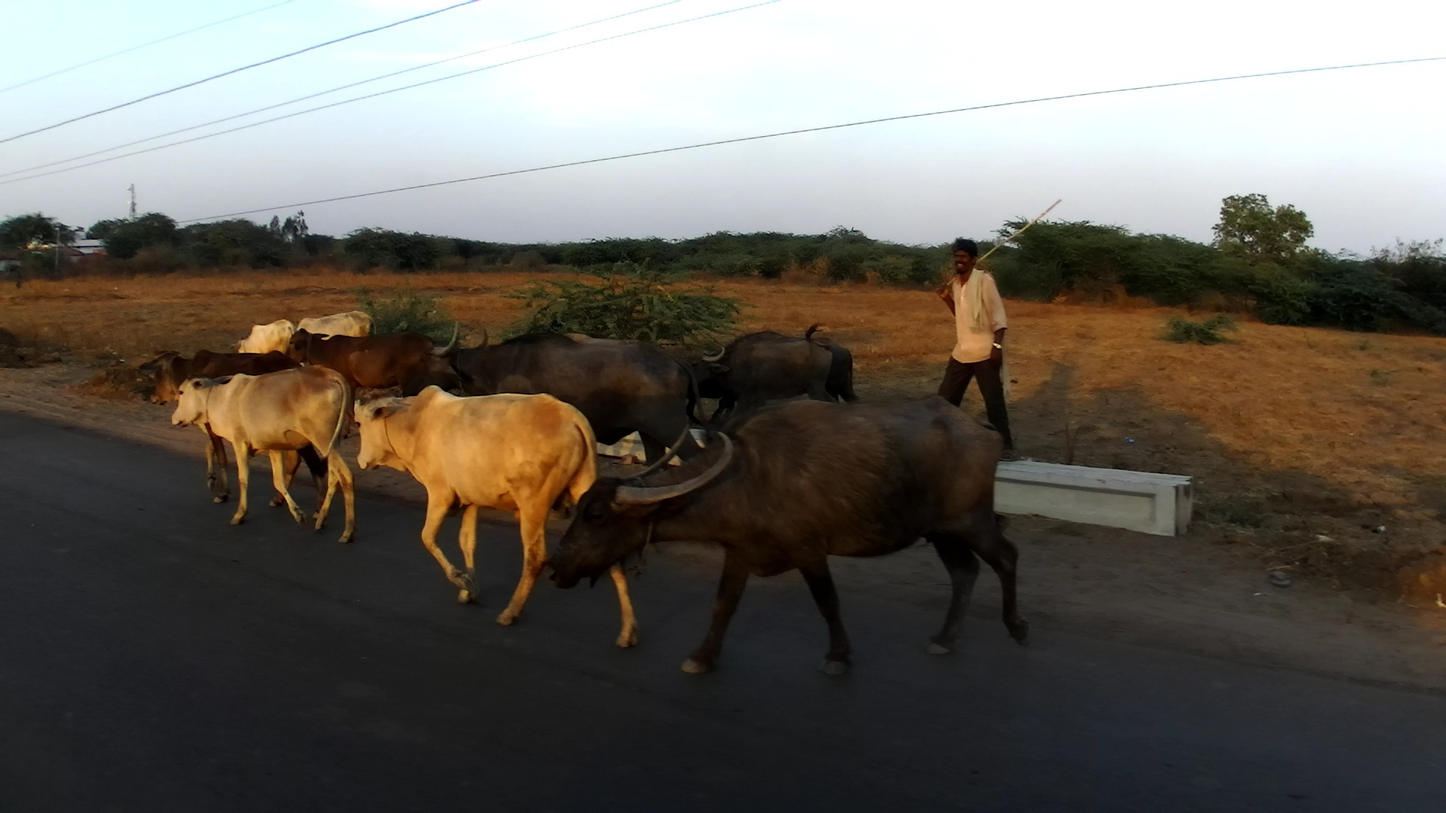animal: (540, 403, 1030, 682), (348, 386, 637, 657), (442, 318, 719, 500), (165, 371, 365, 546), (136, 343, 332, 513), (689, 321, 862, 429), (285, 324, 476, 418), (292, 310, 374, 355), (236, 319, 294, 377)
person: (937, 236, 1022, 461)
